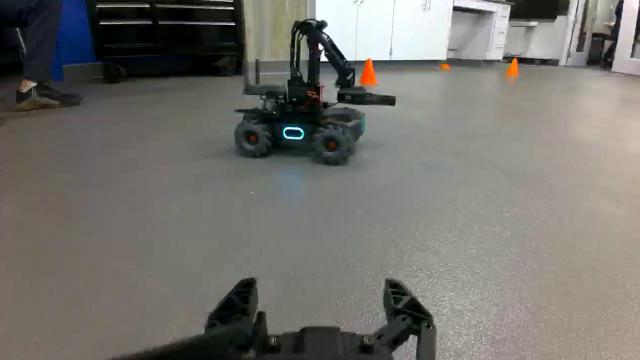robot: (230, 18, 398, 163)
